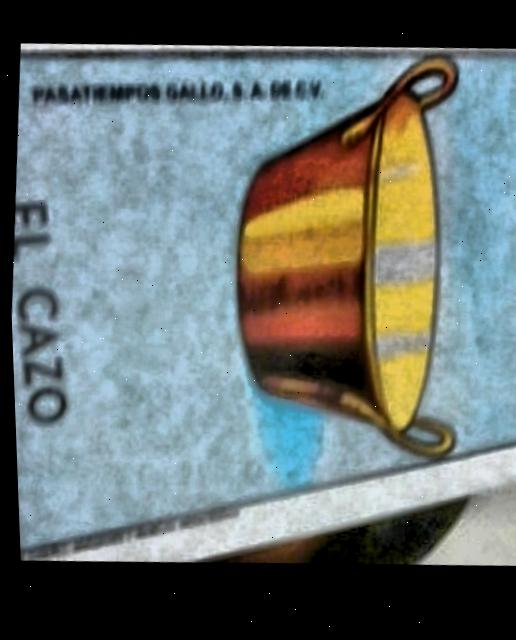El Cazo: (9, 58, 516, 555)
